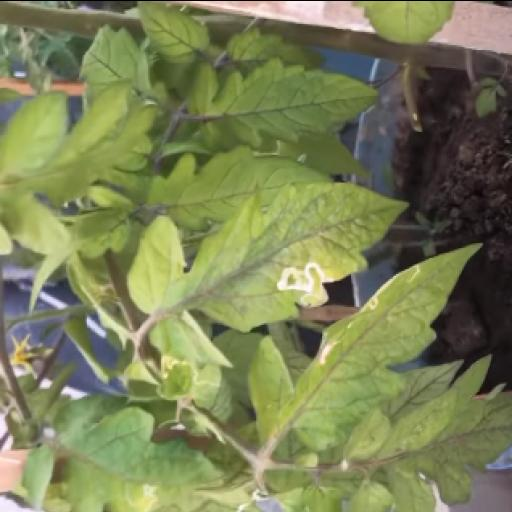disease_tomato: (125, 180, 409, 366)
